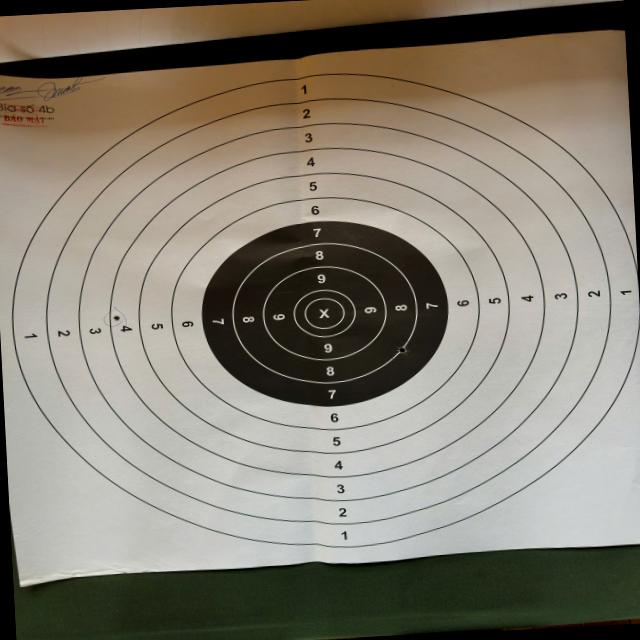bullet: (397, 347, 409, 354), (114, 315, 120, 321)
target: (0, 31, 640, 585)
